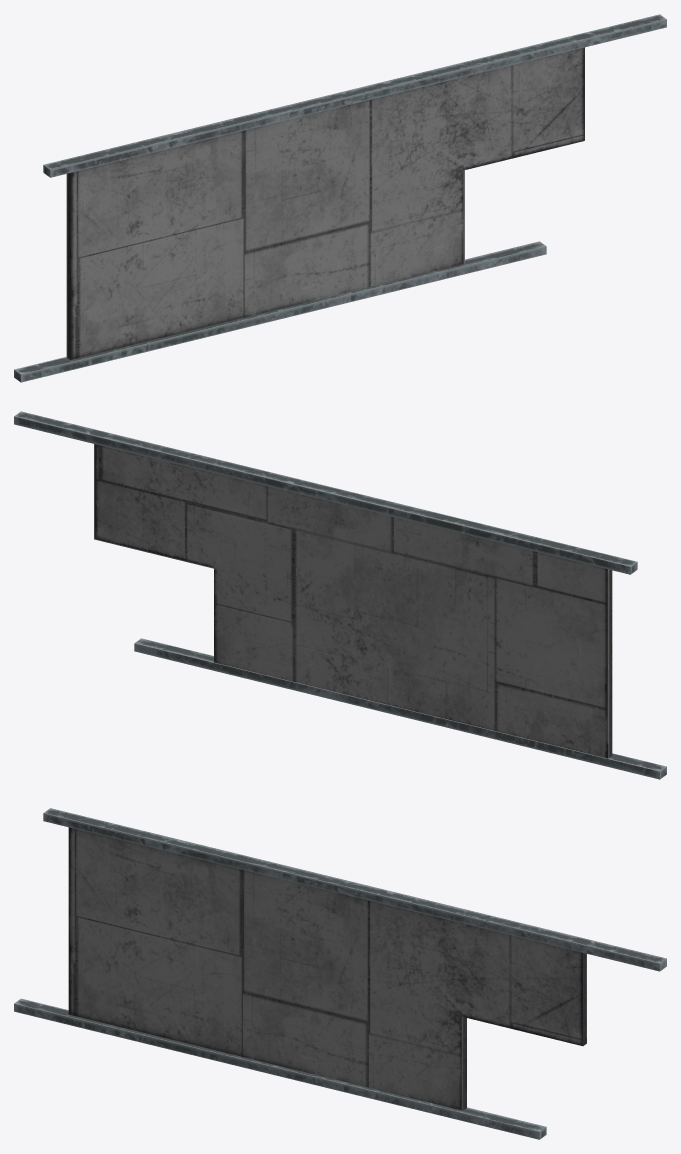
The model's file is space_debris_02.obj.
The picture shows the model from 3 angles, top to bottom: view 1: azimuth 30°, elevation 25°; view 2: azimuth 150°, elevation 25°; view 3: azimuth 330°, elevation 25°; orthographic projection.
Parts seen in each view (by area): view 1: st_space_debris_011.mo_space_debris_02; view 2: st_space_debris_011.mo_space_debris_02; view 3: st_space_debris_011.mo_space_debris_02.
Boxes of the visible parts, bbox=[...] form: st_space_debris_011.mo_space_debris_02: bbox=[14, 14, 666, 382]; st_space_debris_011.mo_space_debris_02: bbox=[14, 411, 666, 779]; st_space_debris_011.mo_space_debris_02: bbox=[14, 808, 666, 1139].
Bounding box in the file's own units: 15.86 × 4.82 × 0.298.
1 material, 1 textured.
